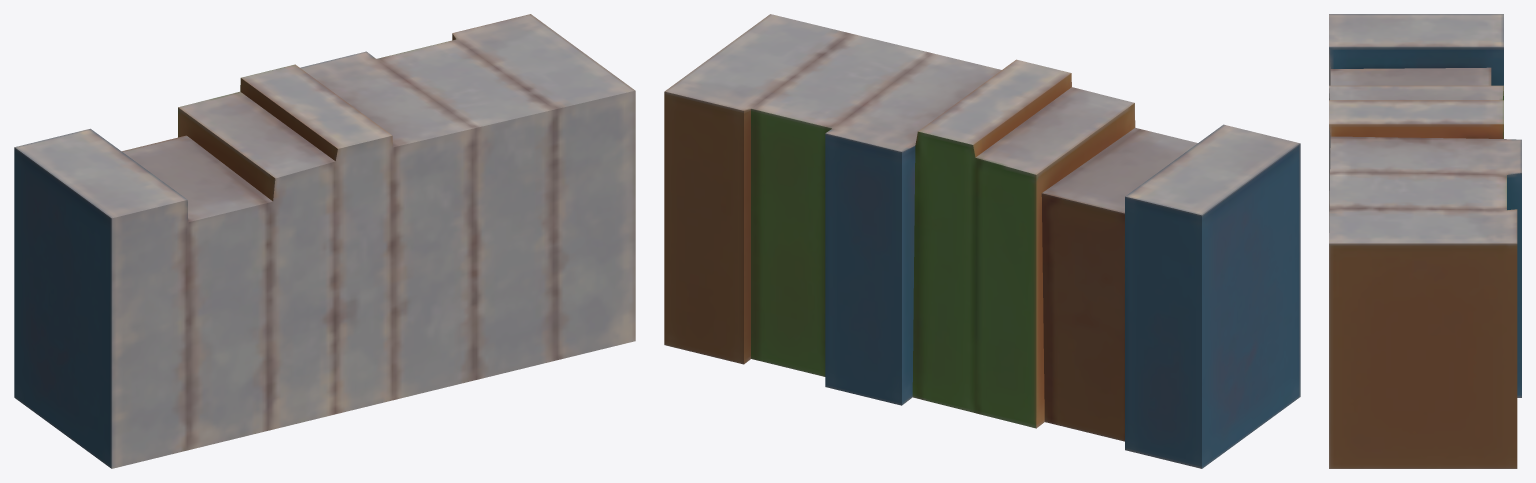
The model's file is Pfb_Indoors_Books__8.fbx.
The picture shows the model from 3 angles, left to right: view 1: azimuth 30°, elevation 25°; view 2: azimuth 150°, elevation 25°; view 3: azimuth 270°, elevation 25°; orthographic projection. The views are drawn at different scales.
Visible parts, largest first — view 1: Mat_Indoors_Books_01_2; view 2: Mat_Indoors_Books_01_2; view 3: Mat_Indoors_Books_01_2.
Boxes of the visible parts, x1,y1,x2,y2 form: Mat_Indoors_Books_01_2: [14, 14, 635, 468]; Mat_Indoors_Books_01_2: [664, 14, 1300, 468]; Mat_Indoors_Books_01_2: [1329, 14, 1521, 468].
Size of the model in its own units: 0.9648 by 0.4662 by 0.3425.
Materials: 1 (1 with a texture image).
